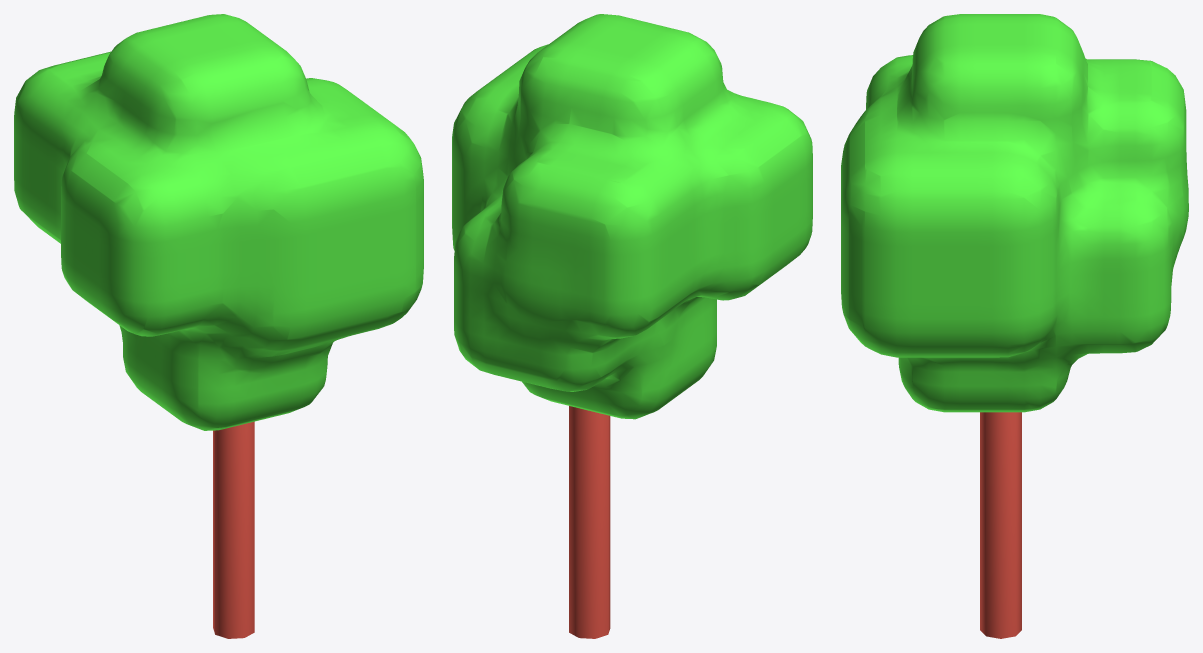
Rendered from tree.fbx.
3 renders of one model, left to right at view 1: azimuth 30°, elevation 25°; view 2: azimuth 150°, elevation 25°; view 3: azimuth 270°, elevation 25°, orthographic. The views are drawn at different scales.
Parts seen in each view (by area): view 1: Mball.006, Cylinder; view 2: Mball.006, Cylinder; view 3: Mball.006, Cylinder.
Boxes of the visible parts, x1,y1,x2,y2 form: Mball.006: (14,14,423,430); Cylinder: (213,421,254,638); Mball.006: (452,14,812,419); Cylinder: (569,406,610,638); Mball.006: (841,14,1188,412); Cylinder: (980,412,1021,638).
Size of the model in its own units: 853 by 1610 by 874.
